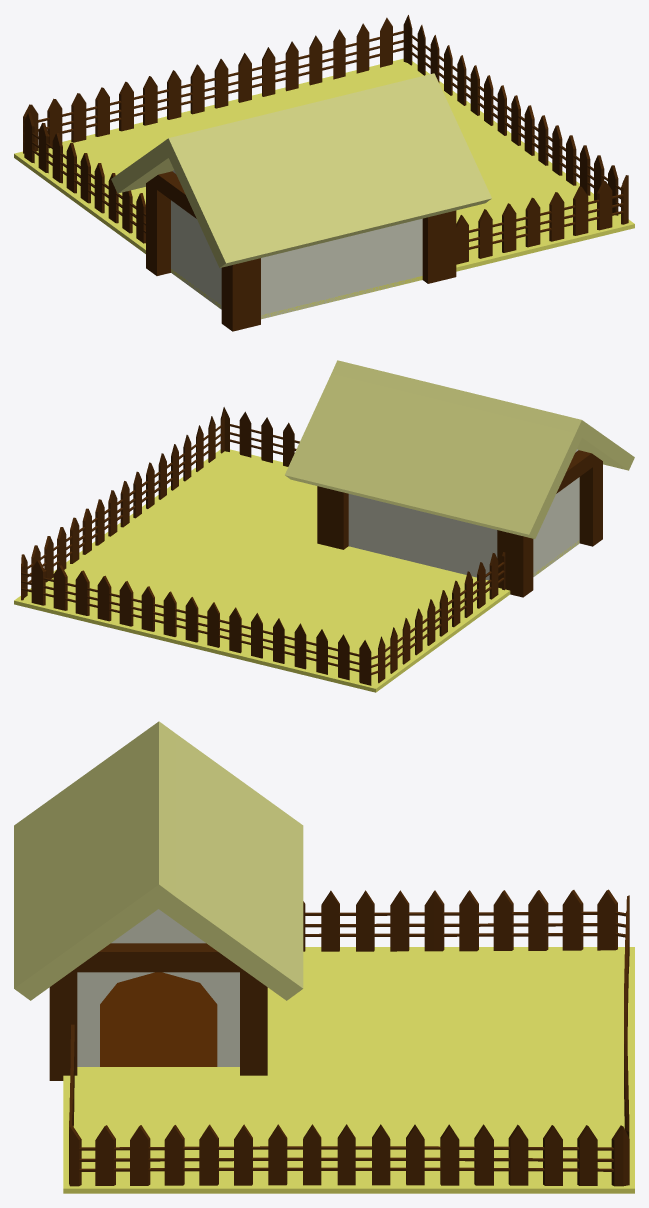
Rendered from Farm.fbx.
3 views of the same model, one above another, from view 1: azimuth 30°, elevation 25°; view 2: azimuth 150°, elevation 25°; view 3: azimuth 270°, elevation 25° (orthographic). The views are drawn at different scales.
Visible parts, largest first — view 1: farm; view 2: farm; view 3: farm.
Boxes of the visible parts, bbox=[...] form: farm: bbox=[14, 15, 634, 331]; farm: bbox=[14, 360, 634, 692]; farm: bbox=[14, 721, 634, 1193].
Bounding box in the file's own units: 1223 × 455 × 1221.
